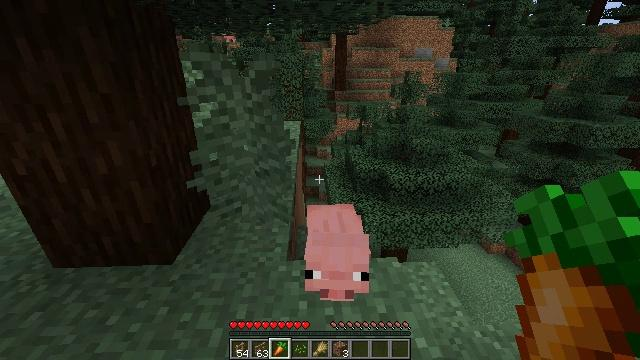pig: (306, 206, 370, 300)
